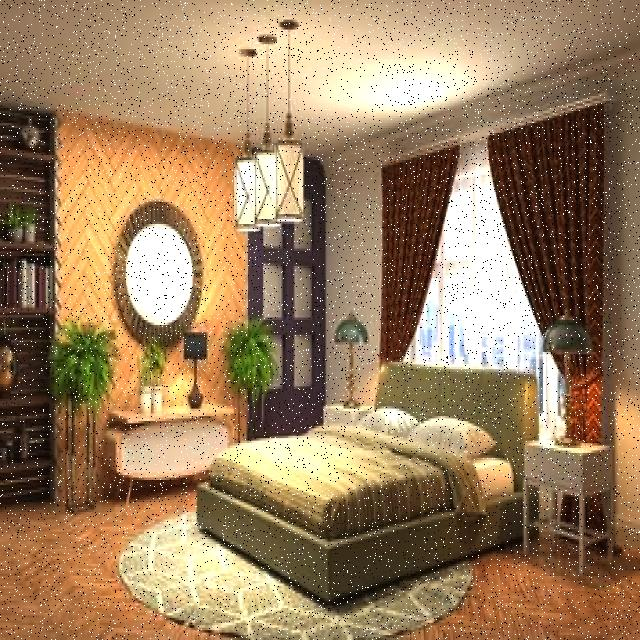bed: (195, 361, 540, 558)
